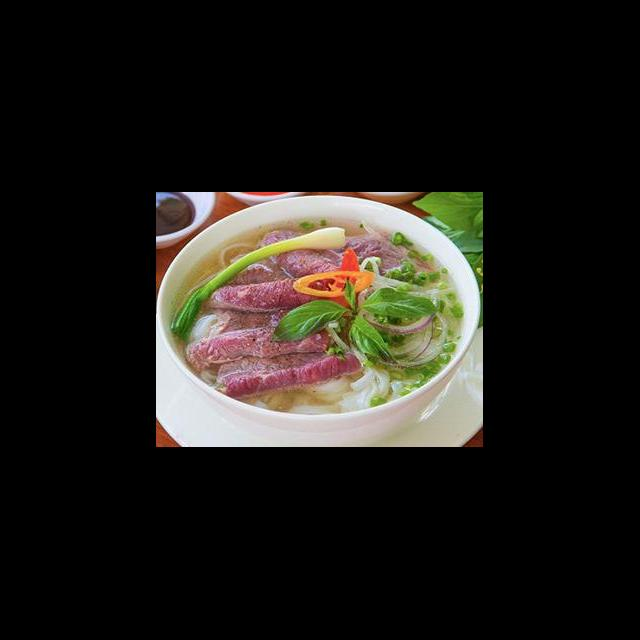banh pho: (282, 362, 422, 418), (188, 310, 228, 340)
pho bo: (163, 217, 484, 446)
thit bo: (180, 308, 350, 377), (210, 340, 366, 400), (322, 222, 444, 280), (204, 270, 334, 316), (258, 228, 360, 280)
